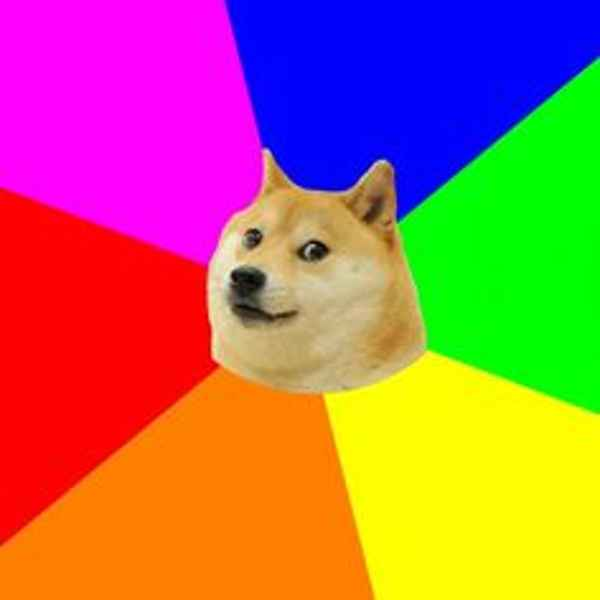doge: (181, 140, 434, 404)
